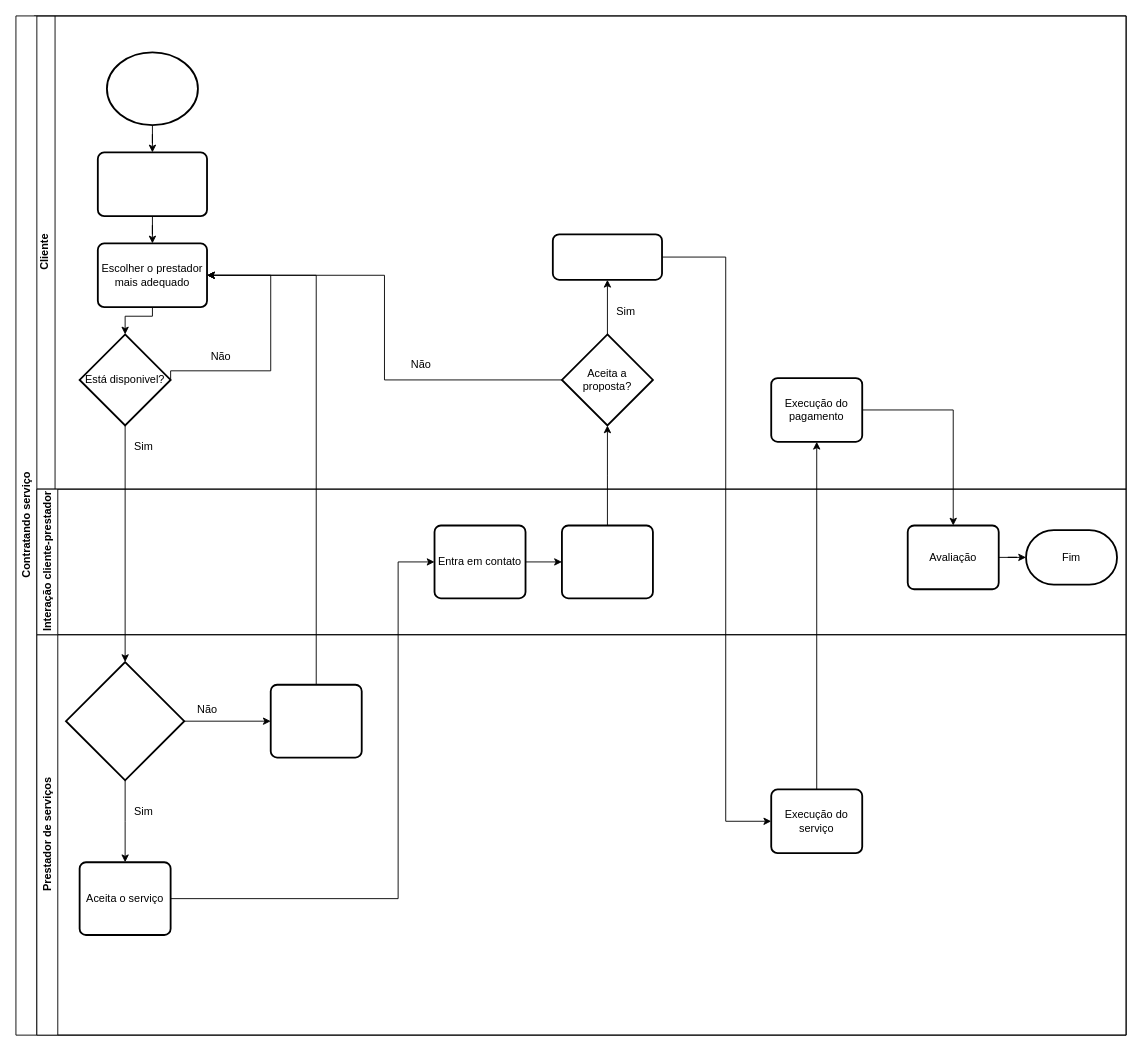
Some shapes in this 1142 by 1051 pixel diagram are drawn without their labels. The box of each missing label's shape, as (x1, y1, x2, y2) in pixels:
Está interessado no serviço?: (65, 661, 185, 781)
Inicio: (106, 51, 198, 126)
Negociação: (561, 524, 653, 599)
O serviço é contratado: (551, 233, 662, 280)
Procurar prestador baseado no problema: (96, 151, 207, 217)
Reijeita o serviço: (269, 683, 362, 758)
